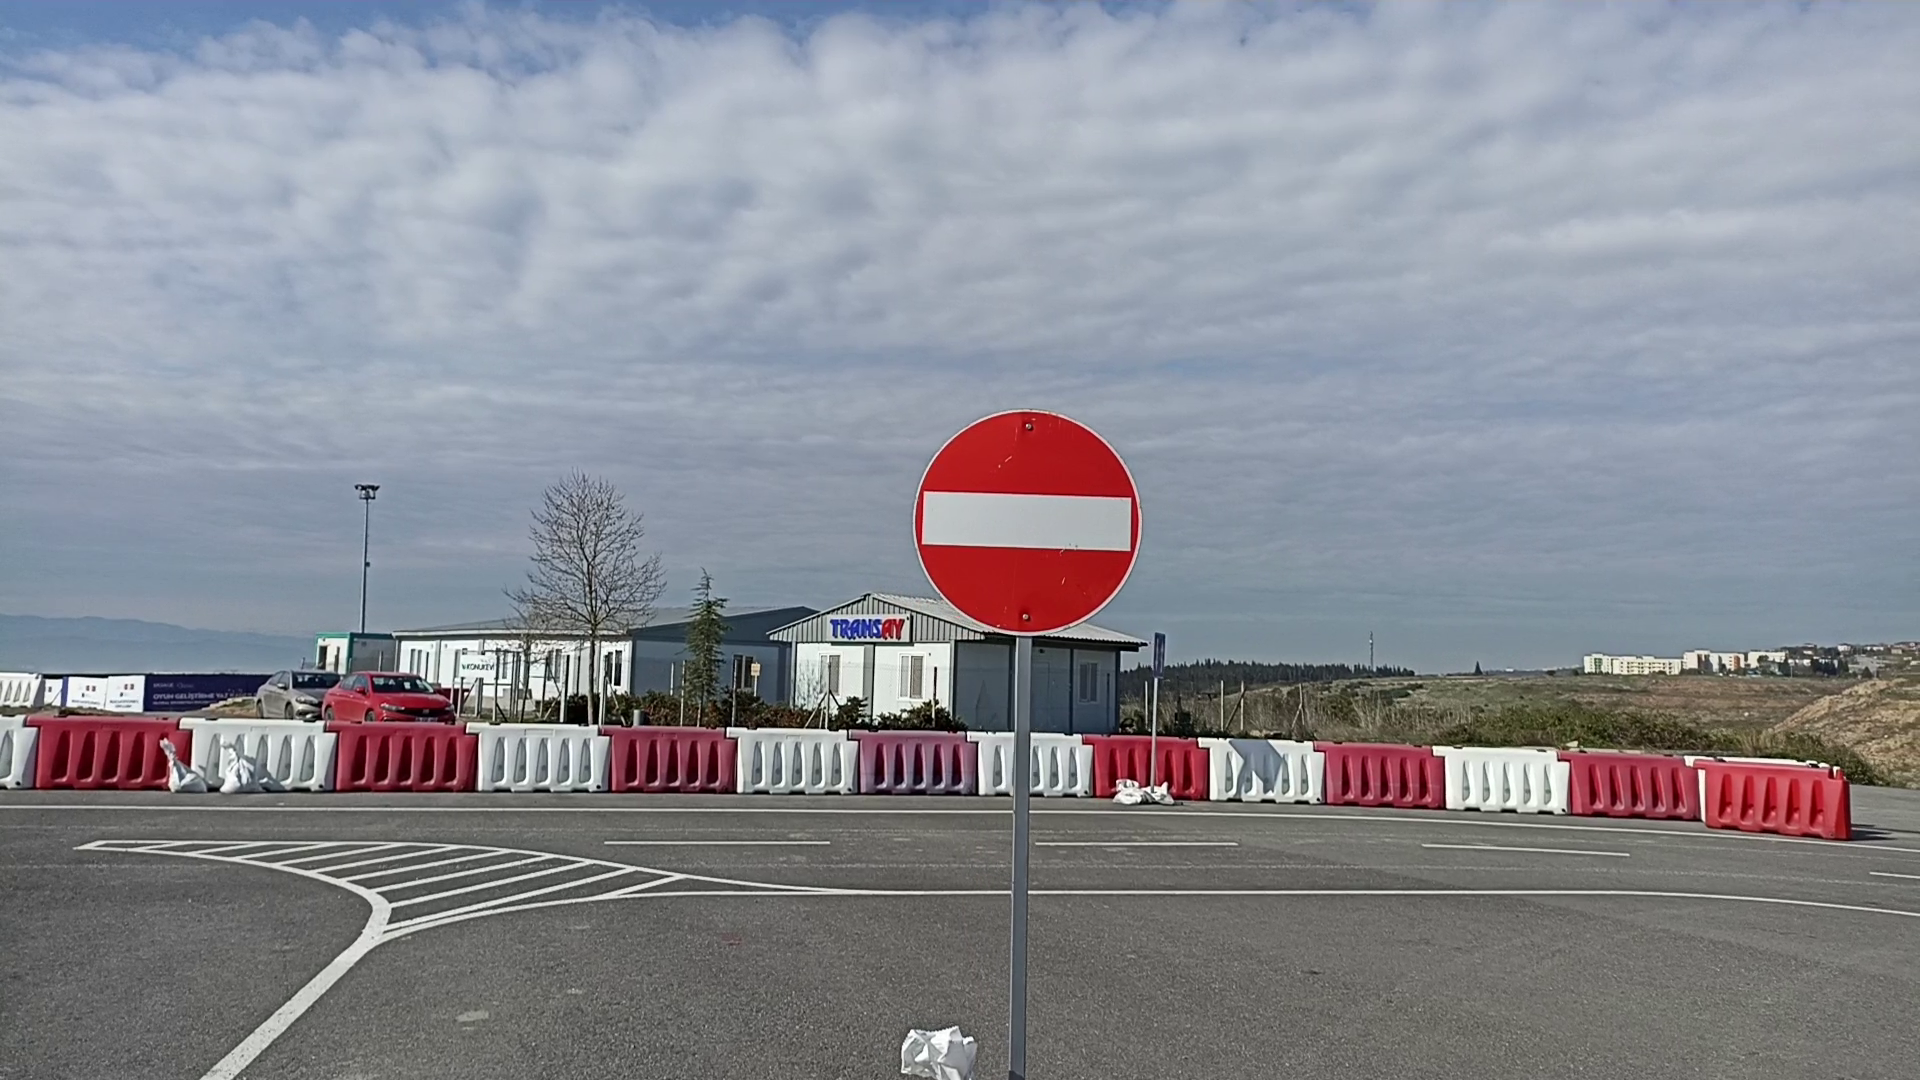noentryway: (909, 406, 1146, 637)
